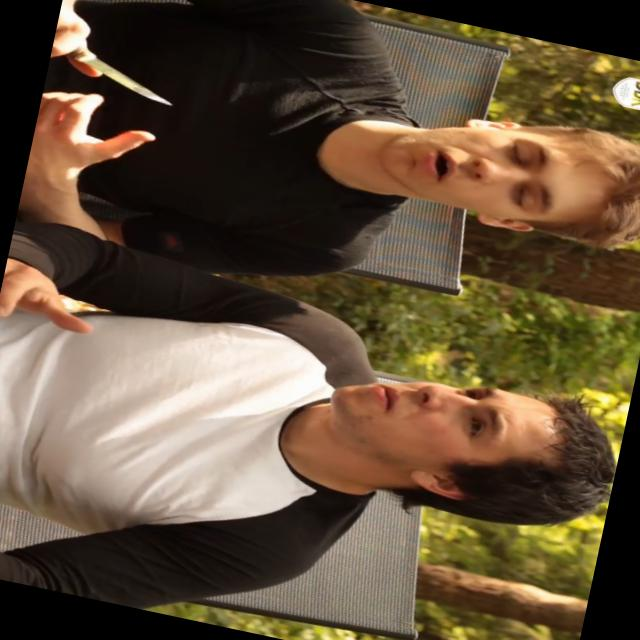knife: (44, 16, 192, 111)
